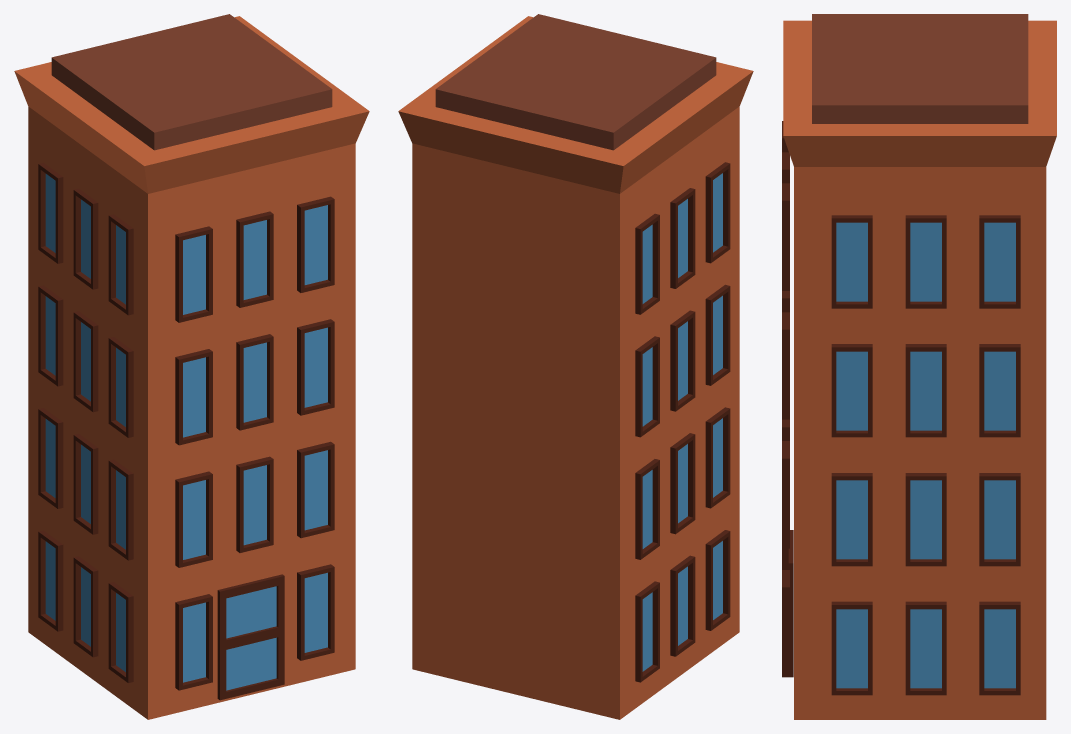
3 views of the same model, side by side, from view 1: azimuth 30°, elevation 25°; view 2: azimuth 150°, elevation 25°; view 3: azimuth 270°, elevation 25° (orthographic). The views are drawn at different scales.
Parts seen in each view (by area): view 1: Cube.052; view 2: Cube.052; view 3: Cube.052.
Part boxes in pixels (bbox=[...]): Cube.052: bbox=[14, 14, 369, 719]; Cube.052: bbox=[398, 14, 753, 719]; Cube.052: bbox=[782, 14, 1056, 719].
Size of the model in its own units: 573 by 576 by 1403.
